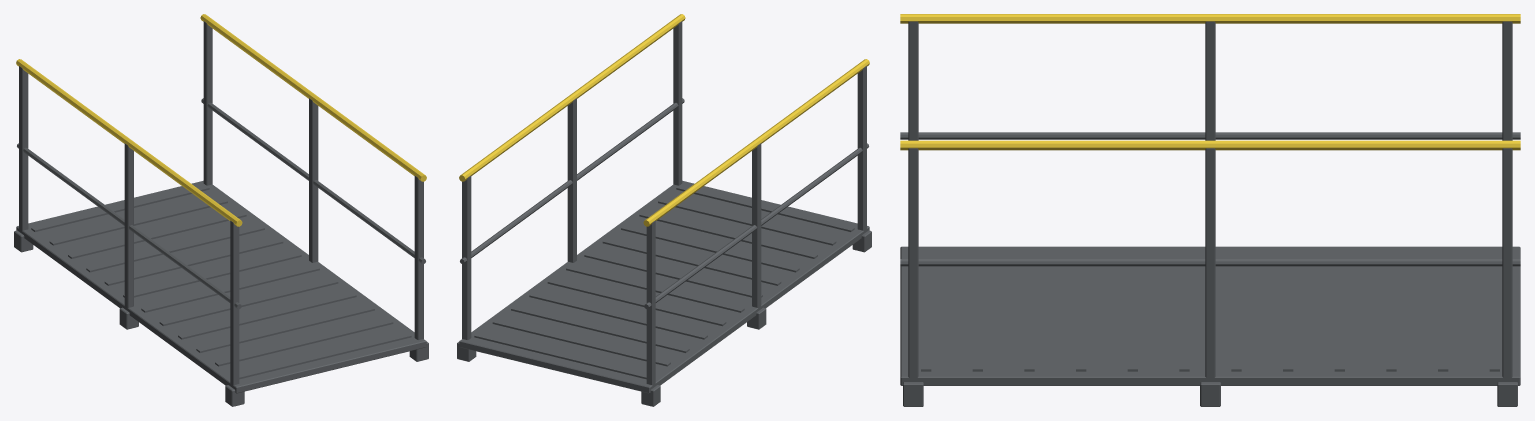
File: catwalk_section.glb
3 renders of one model, left to right at view 1: azimuth 30°, elevation 25°; view 2: azimuth 150°, elevation 25°; view 3: azimuth 270°, elevation 25°, orthographic. The views are drawn at different scales.
Parts seen in each view (by area): view 1: catwalk_section; view 2: catwalk_section; view 3: catwalk_section.
Boxes of the visible parts, x1=… form: catwalk_section: x1=14, y1=14, x2=428, y2=406; catwalk_section: x1=457, y1=14, x2=871, y2=406; catwalk_section: x1=900, y1=14, x2=1520, y2=406.
Size of the model in its own units: 1.24 by 1.12 by 2.4.
